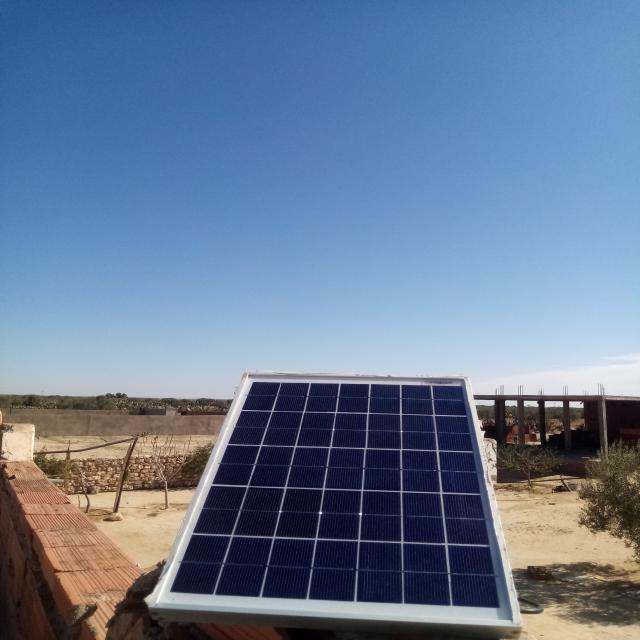no faulty: (146, 375, 515, 626)
